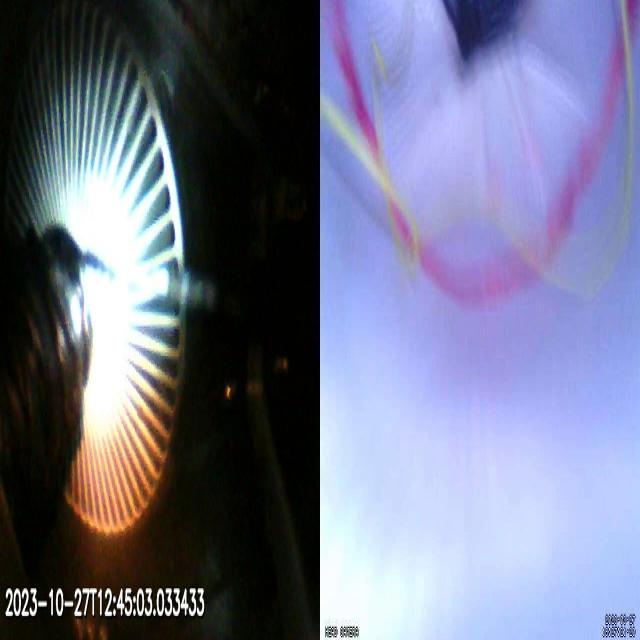red-circle: (326, 0, 639, 299)
